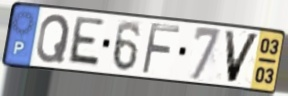6: (112, 20, 142, 74)
7: (191, 25, 224, 83)
E: (65, 15, 107, 70)
F: (139, 21, 182, 76)
Q: (34, 13, 72, 65)
V: (223, 28, 263, 84)
